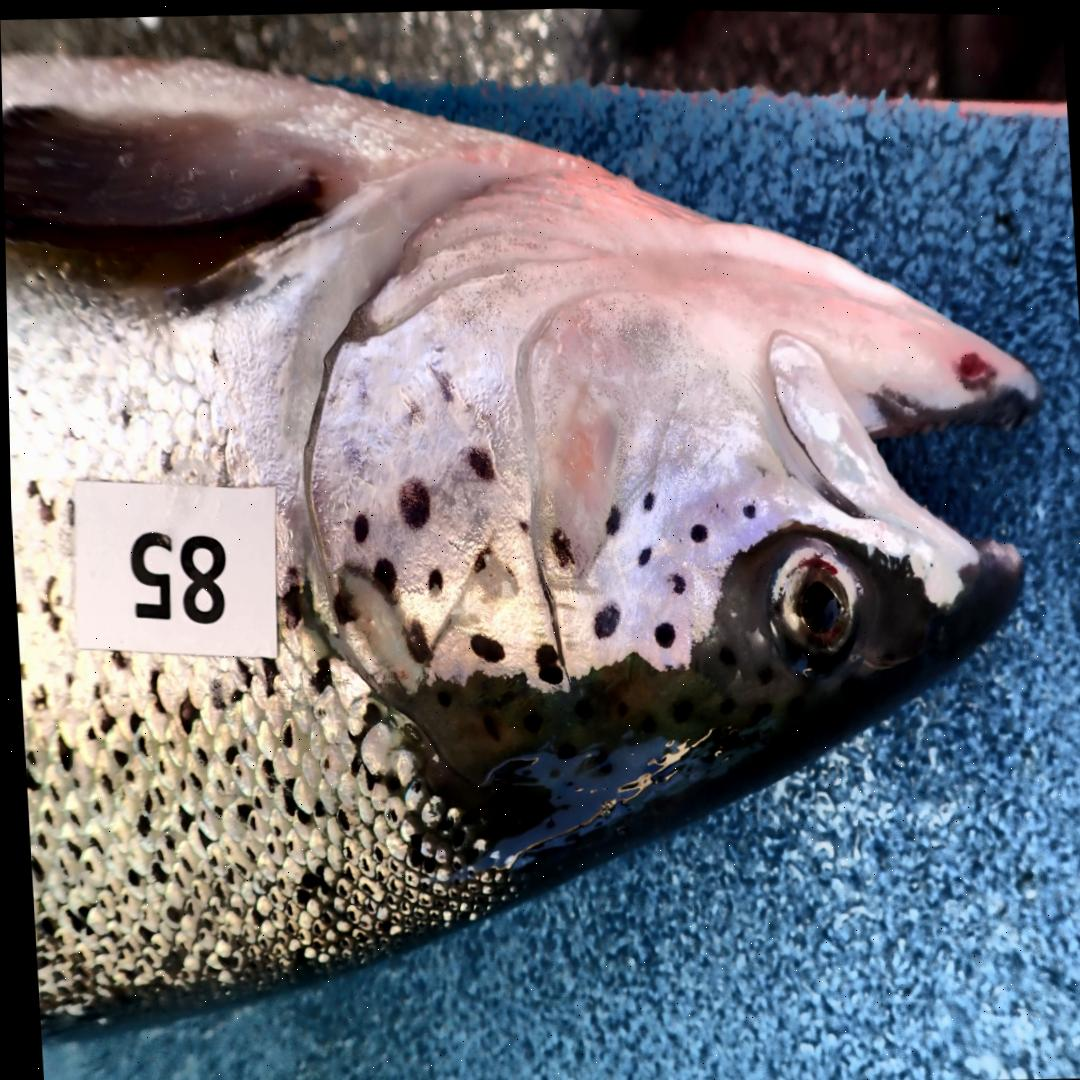spot: (461, 543, 514, 599), (395, 476, 427, 527), (329, 579, 356, 624), (530, 642, 558, 681), (547, 524, 572, 566), (401, 620, 426, 661), (467, 632, 501, 662), (464, 445, 492, 478), (590, 602, 615, 635), (370, 557, 393, 590), (651, 619, 671, 646), (349, 511, 365, 539), (601, 504, 617, 531), (340, 440, 358, 464), (424, 568, 439, 593), (436, 373, 450, 399), (400, 399, 414, 423), (686, 520, 704, 538), (668, 571, 682, 592), (634, 545, 647, 563), (640, 489, 651, 510), (739, 501, 752, 515), (516, 517, 526, 530), (357, 385, 365, 399)
